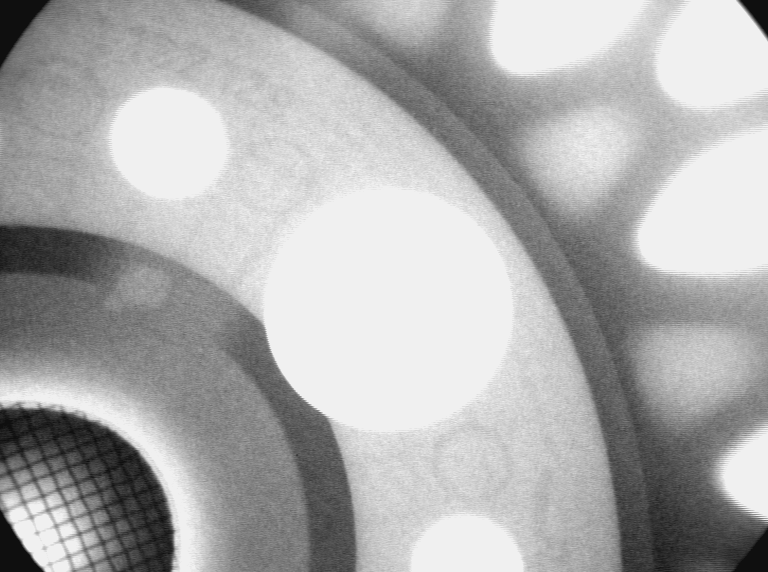defect: (101, 263, 177, 317)
